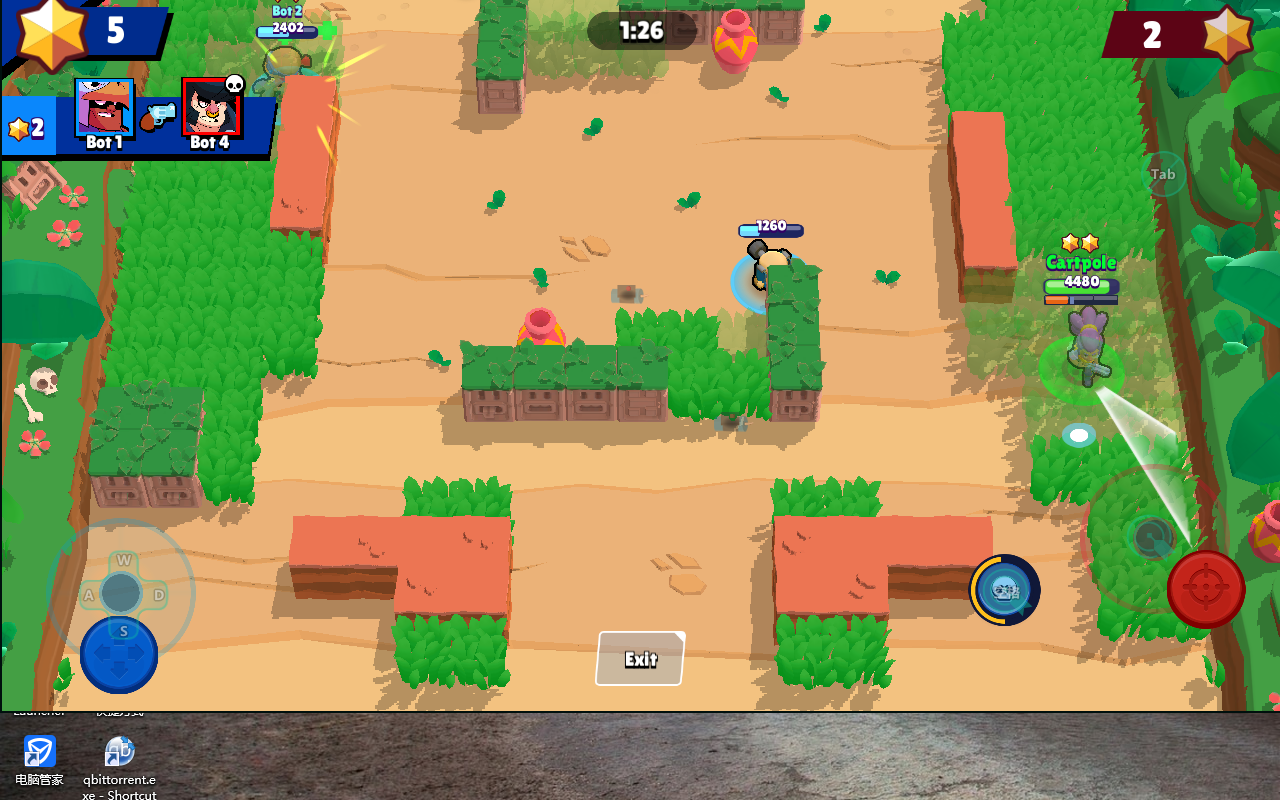current_player: (1039, 337, 1123, 407)
